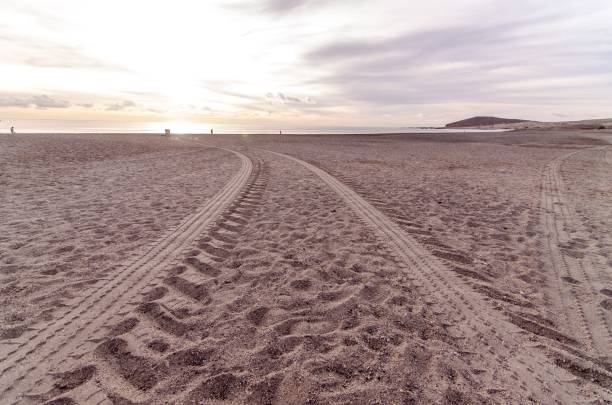vehicle_track: (268, 151, 611, 403), (0, 149, 252, 403), (31, 157, 269, 404), (541, 149, 611, 355)
